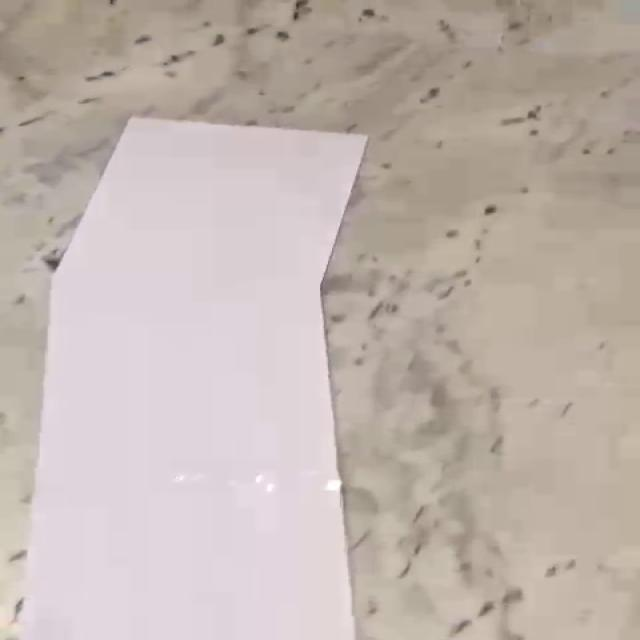road: (21, 118, 367, 640)
